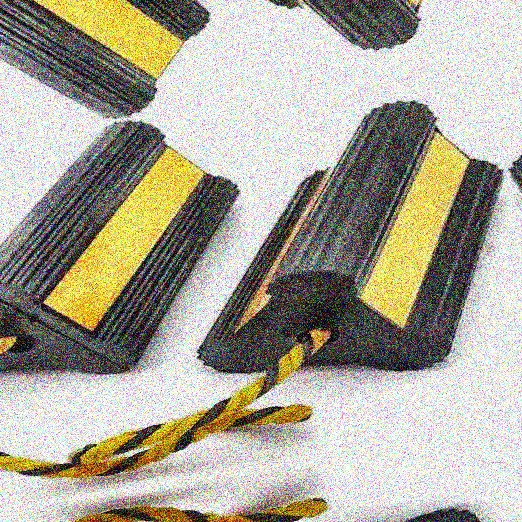chock: (160, 84, 522, 408), (0, 102, 269, 407), (0, 0, 228, 159)
